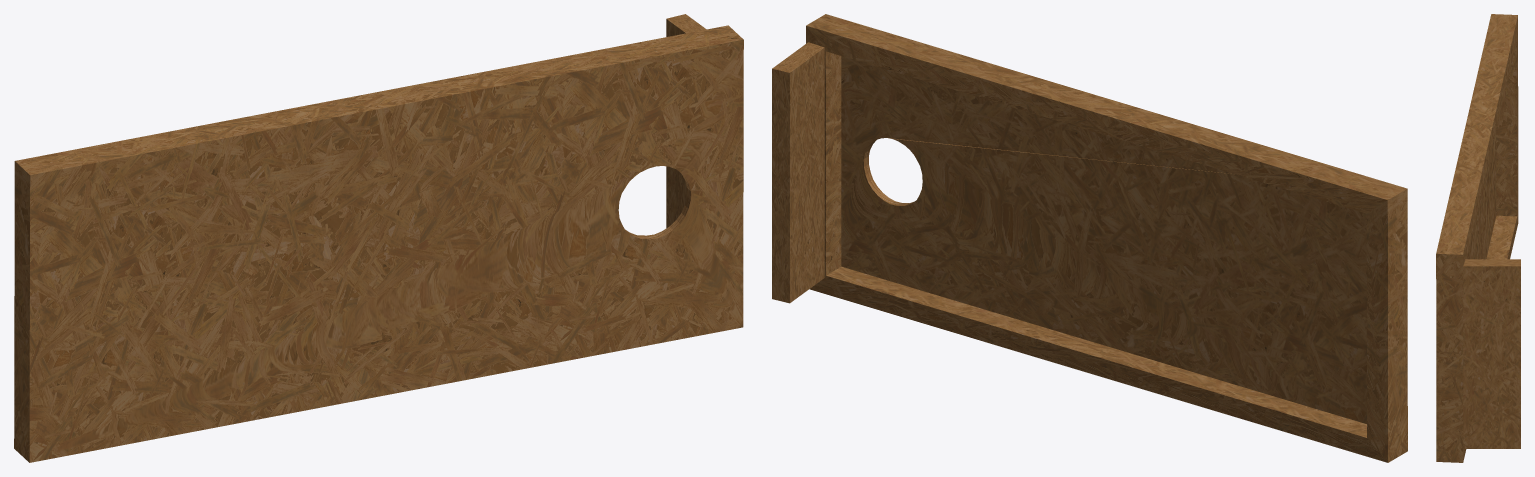
Rendered from CornholeBoard_Will.obj.
3 renders of one model, left to right at view 1: azimuth 30°, elevation 25°; view 2: azimuth 150°, elevation 25°; view 3: azimuth 270°, elevation 25°, orthographic. The views are drawn at different scales.
Parts seen in each view (by area): view 1: Cube.001_Cube; view 2: Cube.001_Cube; view 3: Cube.001_Cube.
Boxes of the visible parts, <box> form: Cube.001_Cube: <box>14,14,743,462</box>; Cube.001_Cube: <box>772,14,1407,462</box>; Cube.001_Cube: <box>1436,14,1520,462</box>.
Bounding box in the file's own units: 221 × 89.9 × 32.97.
